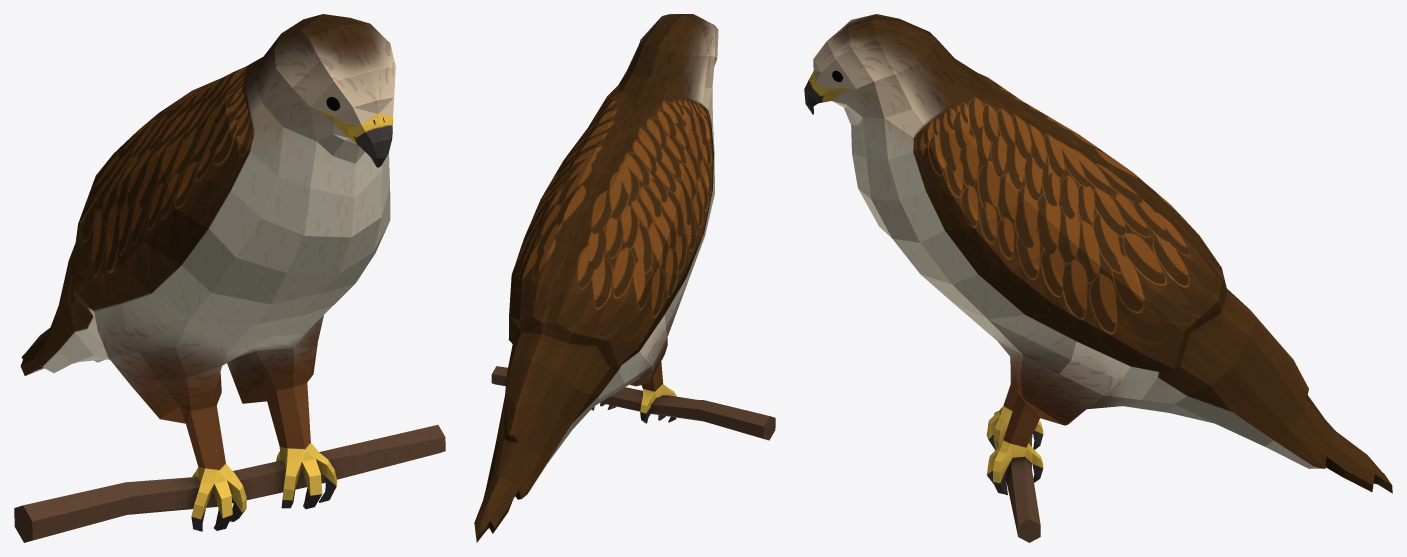
3 views of the same model, side by side, from view 1: azimuth 30°, elevation 25°; view 2: azimuth 150°, elevation 25°; view 3: azimuth 270°, elevation 25° (orthographic). The views are drawn at different scales.
Parts seen in each view (by area): view 1: FerruginousHawk_Mesh; view 2: FerruginousHawk_Mesh; view 3: FerruginousHawk_Mesh.
Part boxes in pixels (box(x1,y1,x2,y2)): FerruginousHawk_Mesh: box(14, 14, 445, 542); FerruginousHawk_Mesh: box(474, 14, 775, 542); FerruginousHawk_Mesh: box(804, 14, 1392, 542).
Bounding box in the file's own units: 2.54 × 3.35 × 3.77.
Materials: 1 (1 with a texture image).
